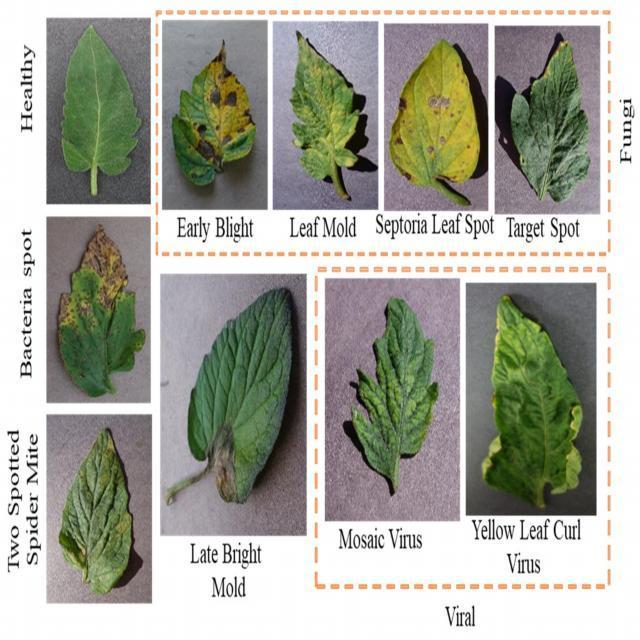Healthy Leaf: (54, 22, 142, 198)
Yellow Curl Virus: (487, 301, 588, 511)
